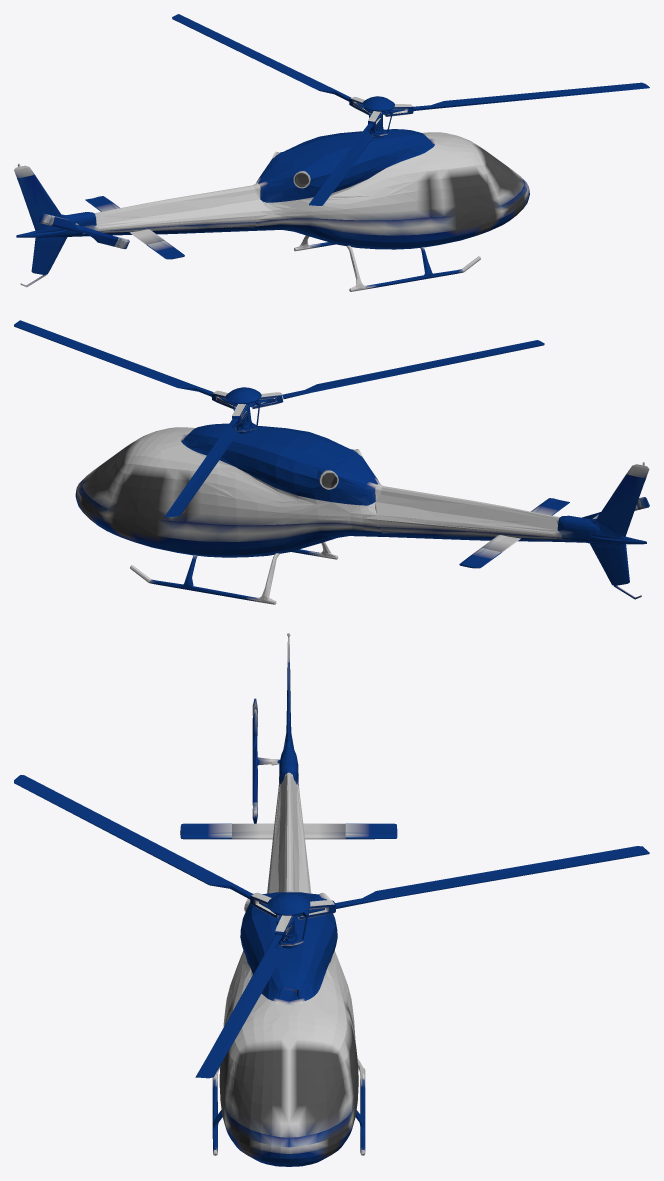
File: copter.glb
3 views of the same model, one above another, from view 1: azimuth 30°, elevation 25°; view 2: azimuth 150°, elevation 25°; view 3: azimuth 270°, elevation 25° (orthographic). The views are drawn at different scales.
Parts seen in each view (by area): view 1: hi, lo, rotor_hi, tail_hi, rotor_lo; view 2: hi, lo, rotor_hi, rotor_lo; view 3: hi, rotor_hi, lo, rotor_lo.
Boxes of the visible parts, x1,y1,x2,y2 form: hi: (14, 96, 529, 291); lo: (18, 115, 526, 288); rotor_hi: (172, 14, 649, 205); tail_hi: (39, 213, 129, 248); rotor_lo: (335, 92, 600, 178); hi: (75, 387, 649, 604); lo: (79, 408, 644, 602); rotor_hi: (14, 320, 544, 517); rotor_lo: (178, 357, 484, 431); hi: (180, 633, 397, 1166); rotor_hi: (14, 775, 649, 1078); lo: (181, 636, 395, 1165); rotor_lo: (93, 819, 328, 956).
Size of the model in its own units: 11.74 by 3.54 by 8.09.
